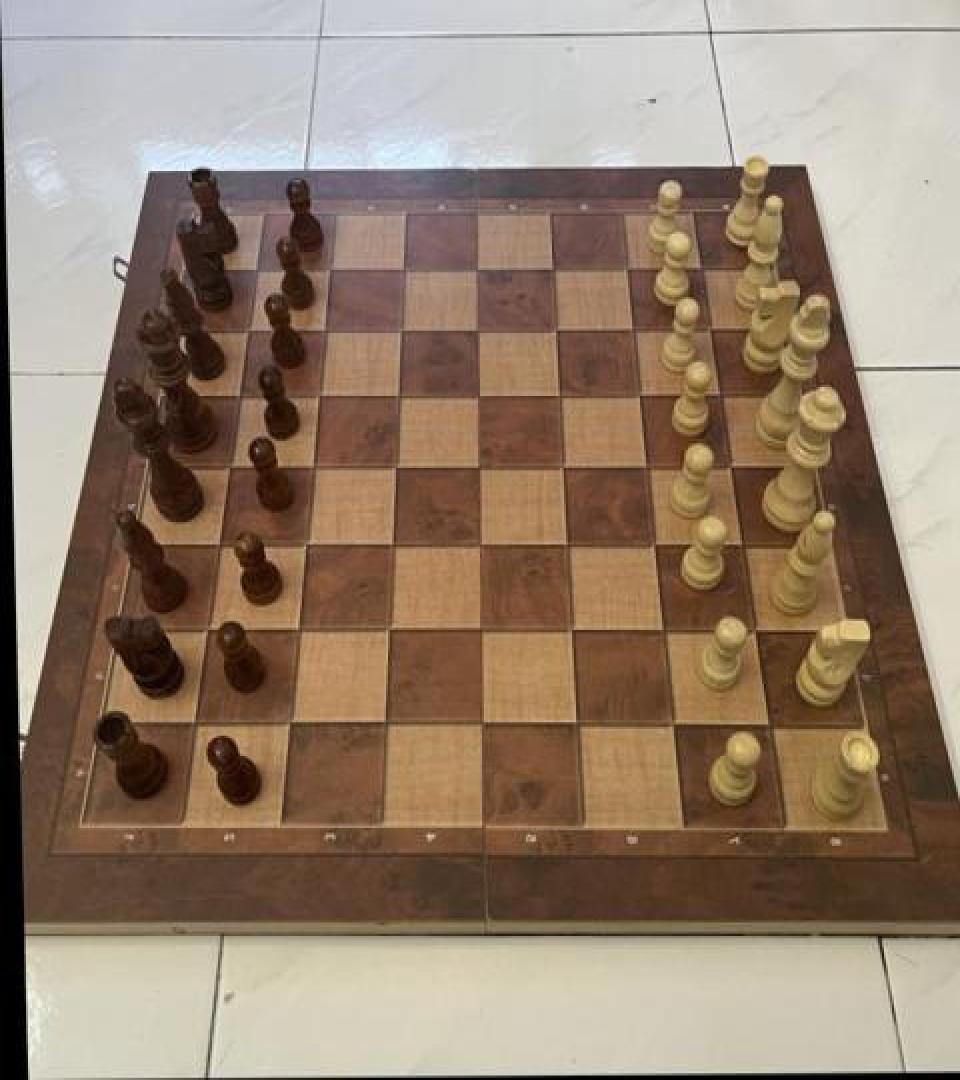xcorner: (180, 705, 214, 744), (274, 705, 308, 744), (368, 705, 402, 744), (463, 705, 497, 744), (559, 705, 593, 744), (655, 705, 689, 744), (751, 705, 785, 744), (246, 255, 280, 294), (193, 612, 227, 650), (283, 612, 317, 650), (373, 612, 407, 650), (463, 612, 497, 650), (554, 611, 588, 649), (646, 611, 680, 649), (737, 611, 771, 649), (206, 528, 240, 566), (291, 528, 325, 566), (377, 526, 411, 564), (463, 526, 497, 564), (550, 526, 584, 564), (637, 526, 671, 564), (725, 526, 759, 564), (217, 451, 251, 489), (299, 450, 333, 488), (381, 450, 415, 488), (463, 449, 497, 487), (546, 449, 580, 487), (630, 448, 664, 486), (713, 447, 747, 485), (227, 380, 261, 418), (306, 379, 340, 417), (384, 379, 418, 417), (463, 378, 497, 416), (543, 377, 577, 415), (623, 377, 657, 415), (703, 376, 737, 414), (237, 315, 271, 353), (312, 315, 346, 353), (388, 314, 422, 352), (463, 313, 497, 351), (540, 312, 574, 350), (616, 310, 650, 348), (693, 310, 727, 348), (318, 255, 352, 293), (391, 253, 425, 291), (463, 253, 497, 291), (537, 252, 571, 290), (610, 251, 644, 289), (684, 250, 718, 288)
